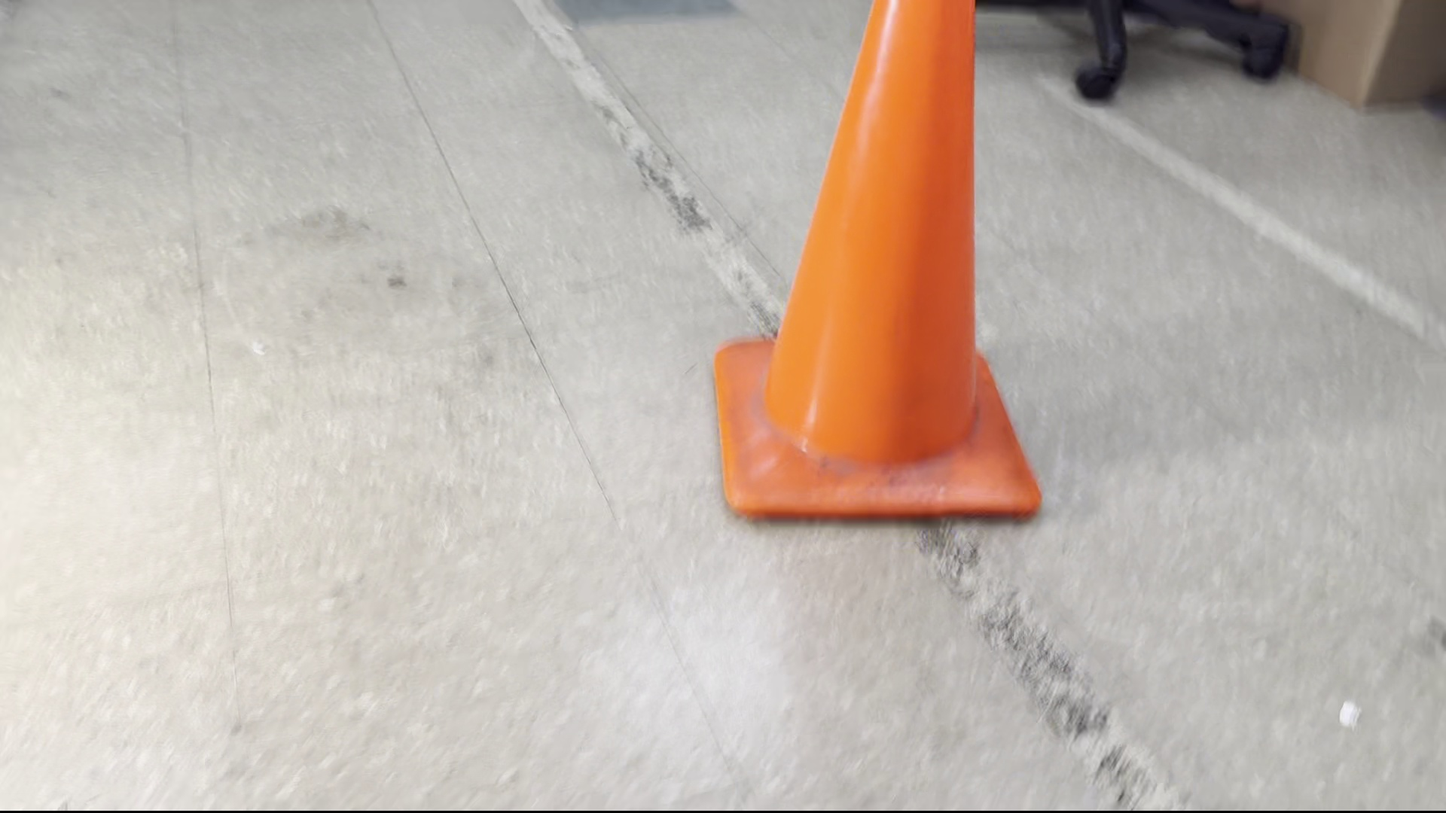traffic_cone: (712, 0, 1043, 522)
